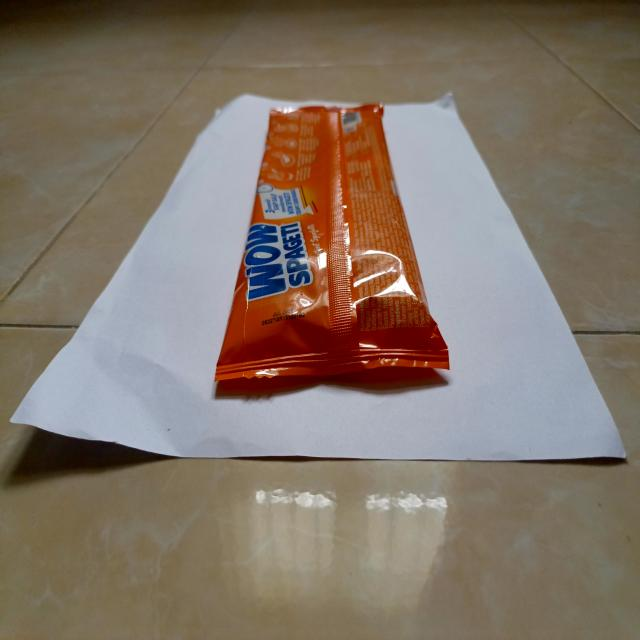indomie-tori-miso: (213, 100, 452, 385)
